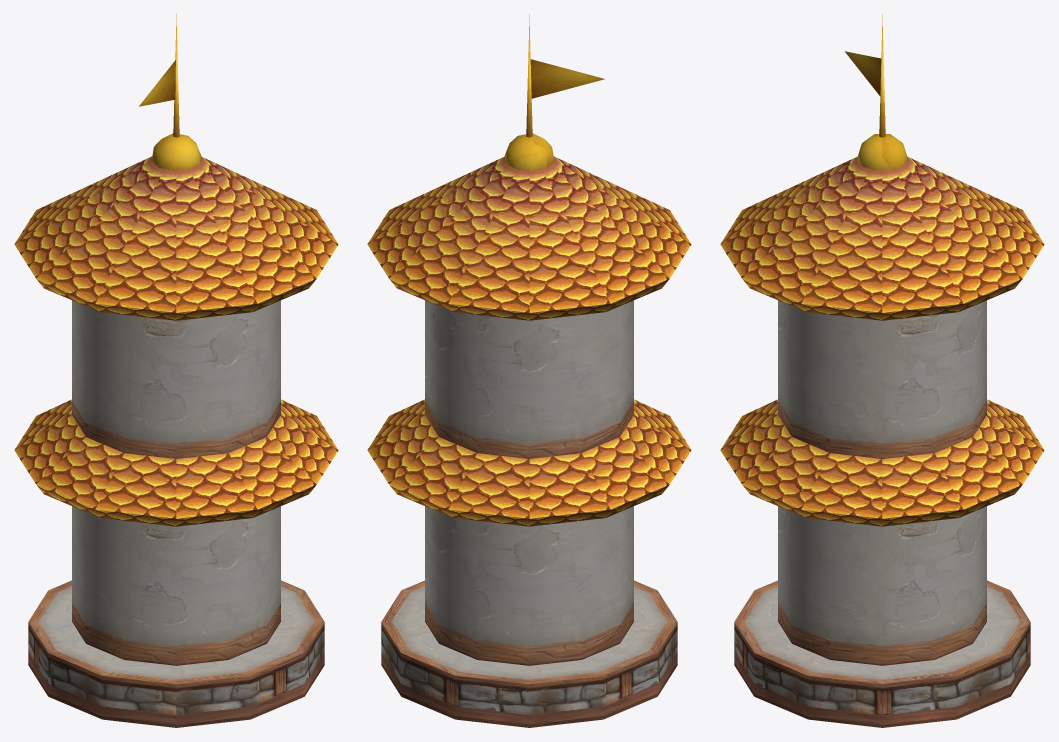
Rendered from House3.FBX.
The picture shows the model from 3 angles, left to right: view 1: azimuth 30°, elevation 25°; view 2: azimuth 150°, elevation 25°; view 3: azimuth 270°, elevation 25°; orthographic projection.
Visible parts, largest first — view 1: C3, C1, C2; view 2: C3, C1, C2; view 3: C3, C1, C2.
Part boxes in pixels (left/top/right/bottom): C3: left=28, top=300, right=324, bottom=727; C1: left=14, top=156, right=338, bottom=526; C2: left=138, top=14, right=201, bottom=170; C3: left=381, top=300, right=677, bottom=727; C1: left=367, top=156, right=691, bottom=526; C2: left=504, top=14, right=604, bottom=170; C3: left=734, top=300, right=1030, bottom=727; C1: left=720, top=156, right=1044, bottom=526; C2: left=845, top=14, right=907, bottom=170.
Size of the model in its own units: 43.43 by 96.25 by 43.43.
Materials: 3 (3 with a texture image).
